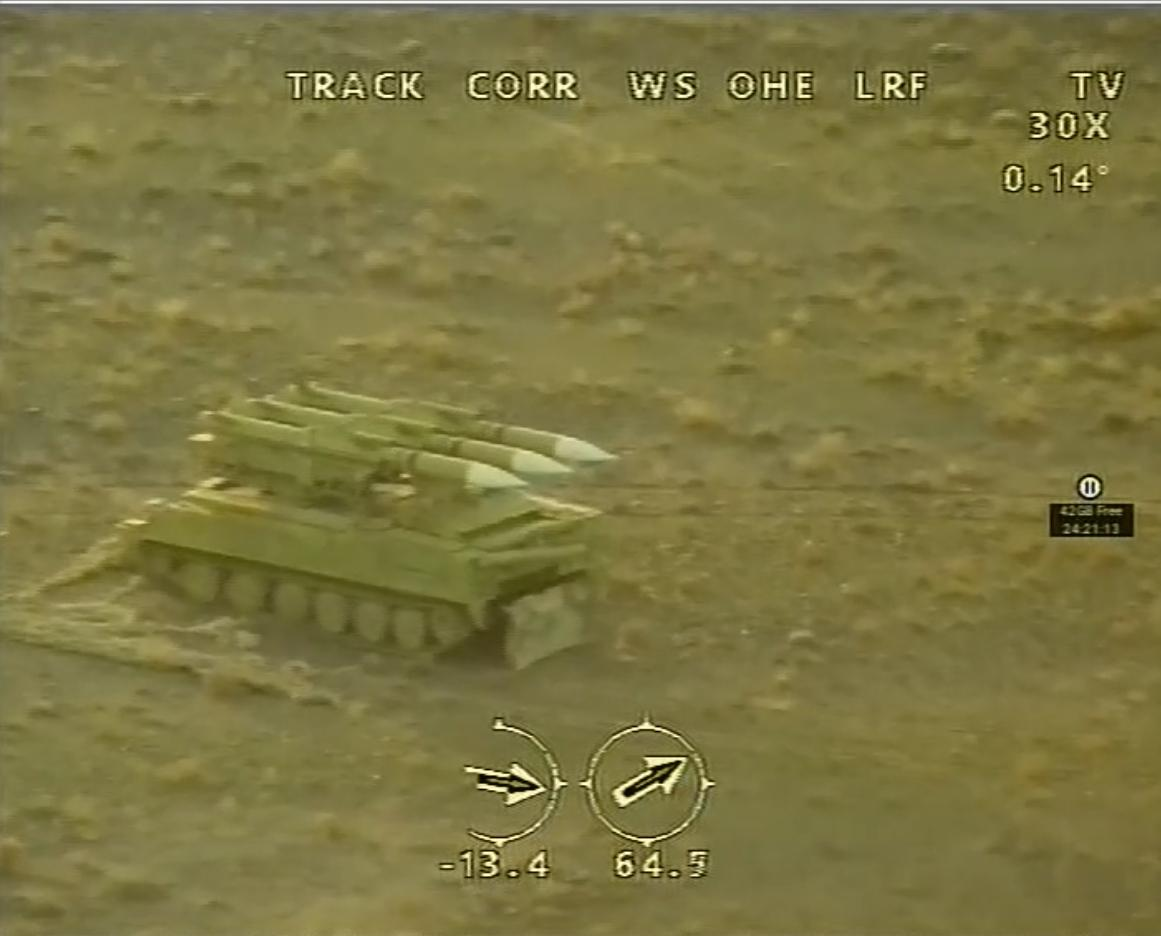armored_car: (110, 374, 623, 662)
